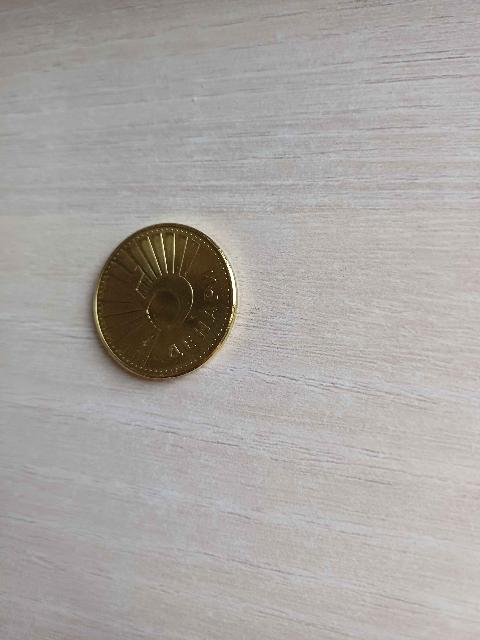5_coin: (96, 224, 237, 380)
